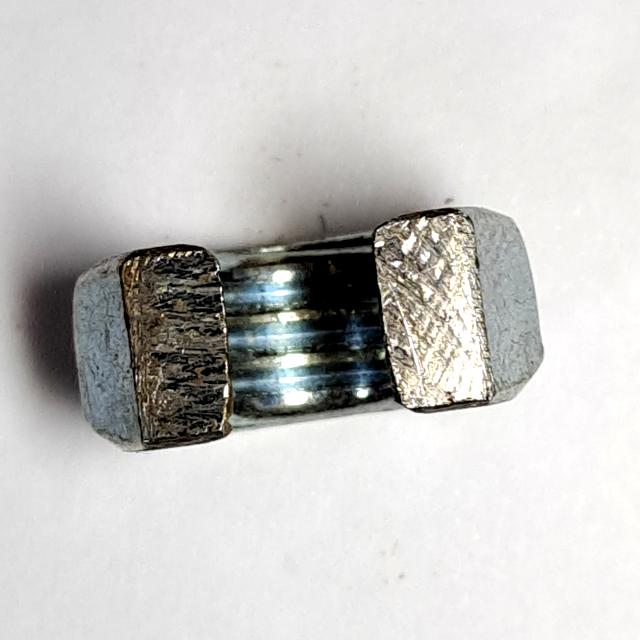Side-Fracture: (66, 194, 555, 471)
